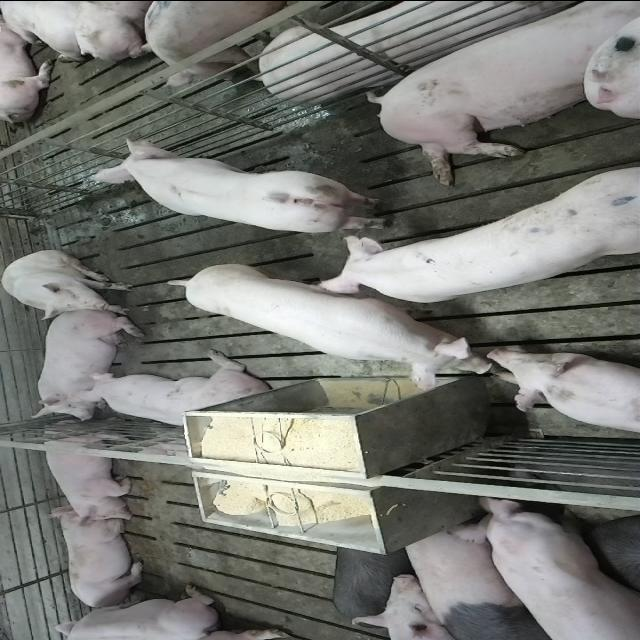Lateral_lying: (362, 5, 636, 187), (258, 0, 578, 102)
Sitting: (3, 250, 138, 318)
Standing: (324, 158, 640, 304), (170, 262, 493, 391), (94, 136, 396, 235), (458, 497, 640, 638), (395, 522, 573, 638), (146, 0, 358, 87)
Sternal_lying: (82, 356, 274, 430), (483, 350, 638, 438), (27, 313, 135, 421), (37, 424, 139, 524), (52, 510, 150, 610), (41, 584, 222, 638)
